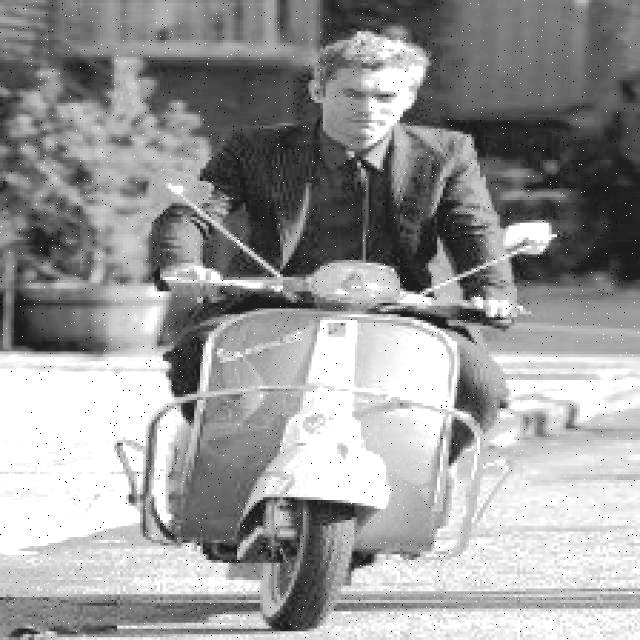Bike: (157, 264, 497, 632)
